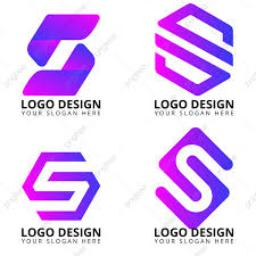d: (58, 99, 66, 109)
e: (66, 98, 74, 110)
g: (38, 98, 46, 110)
i: (79, 99, 83, 111)
l: (20, 98, 26, 110)
n: (92, 100, 102, 110)
o: (28, 98, 38, 110)
s: (73, 99, 79, 109)
